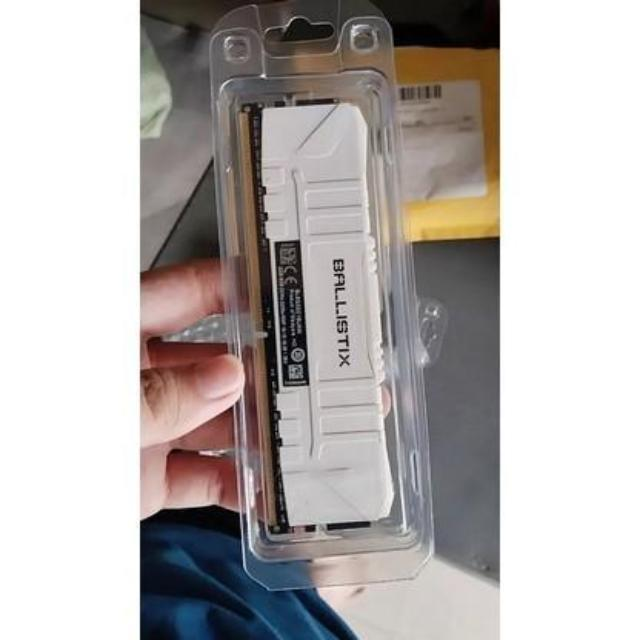RAM: (232, 98, 400, 540)
